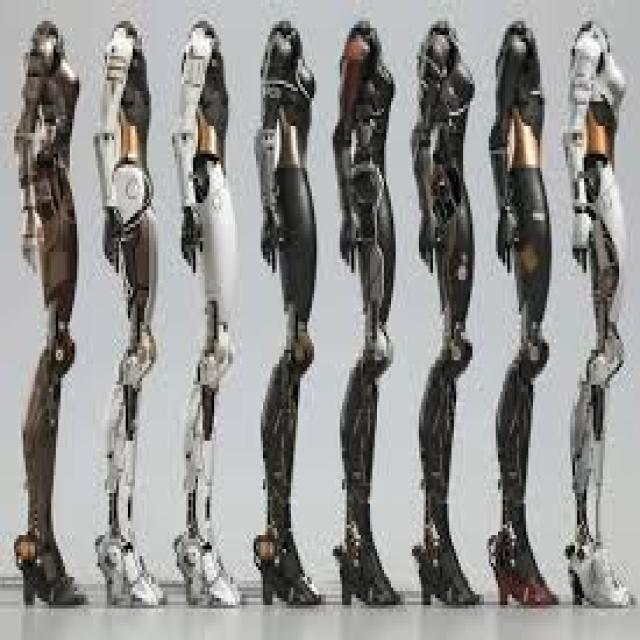humanoid-arm: (12, 40, 44, 275), (94, 44, 126, 273), (170, 46, 202, 272), (492, 33, 521, 275), (562, 37, 591, 268), (413, 42, 442, 270), (255, 42, 282, 270), (335, 42, 360, 268)
humanoid-leg: (15, 354, 80, 608), (490, 359, 556, 609), (414, 362, 480, 606), (99, 359, 163, 604), (258, 359, 321, 604), (338, 359, 397, 606), (181, 359, 236, 602), (576, 352, 624, 611)
